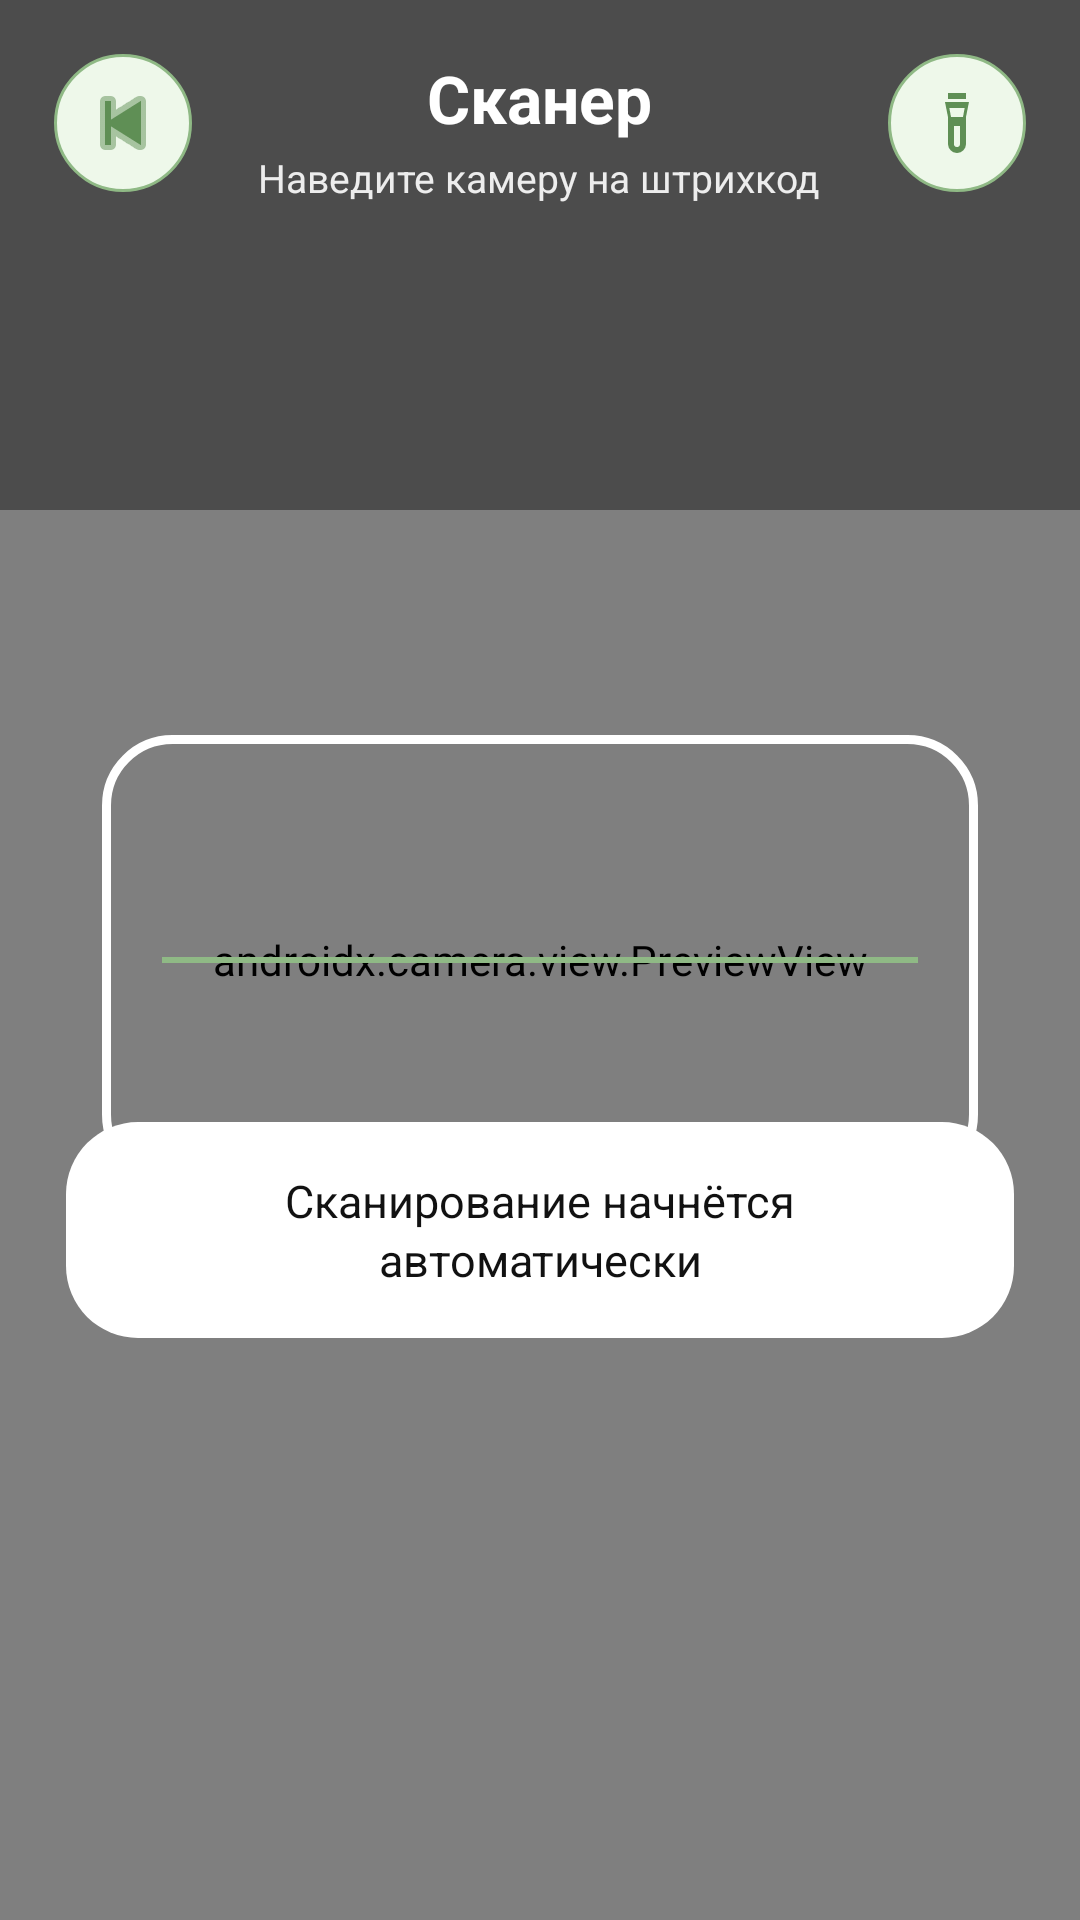

Locate icon controls on the screen. Image size 1080 x 1920, boxes as bbox=[x1, y1, x2, y2].
Назад: bbox=[54, 54, 192, 192]
Фонарик: bbox=[888, 54, 1026, 192]
